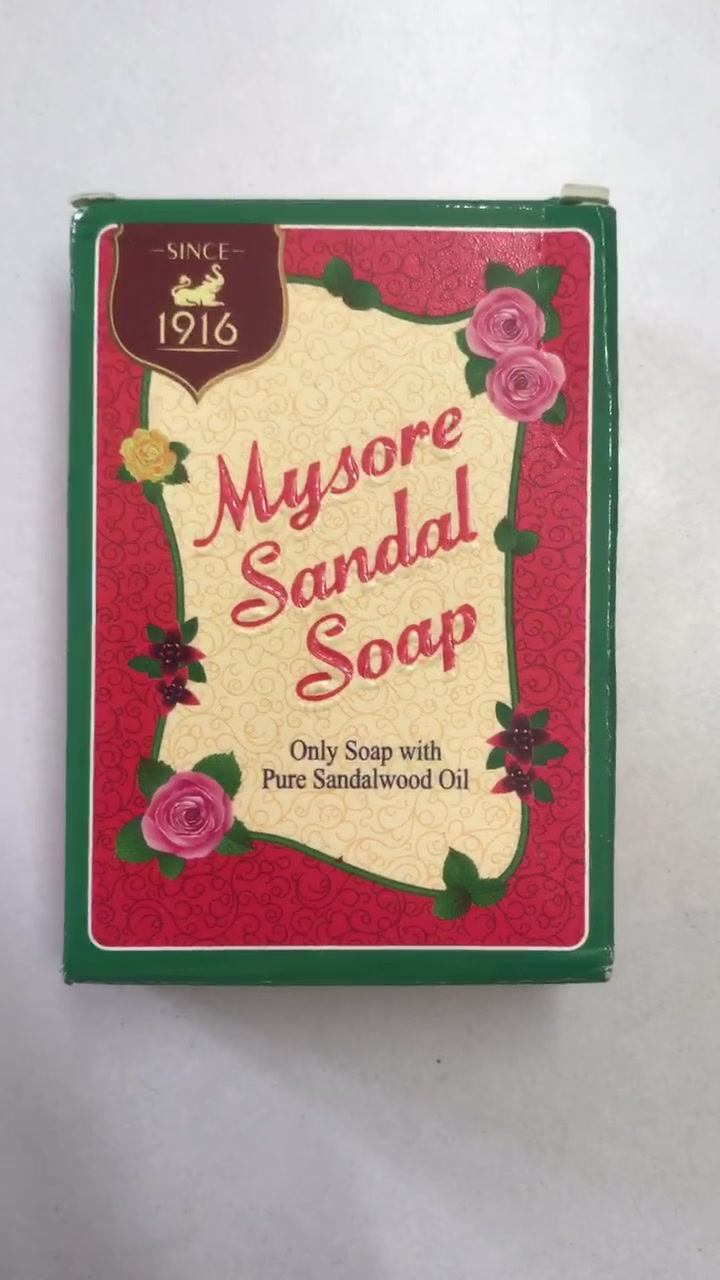mysore sandal soap: (67, 200, 609, 978)
